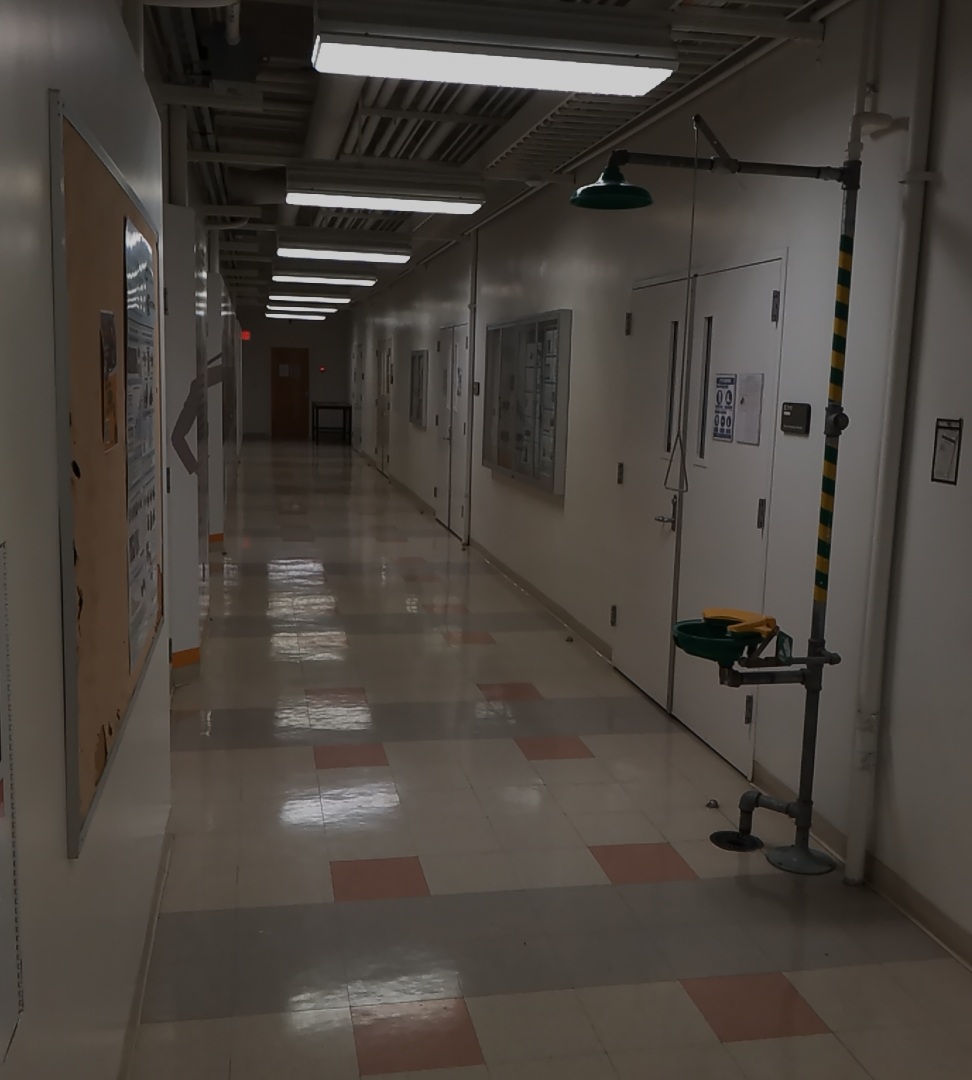emergency_exit: (47, 90, 175, 857)
